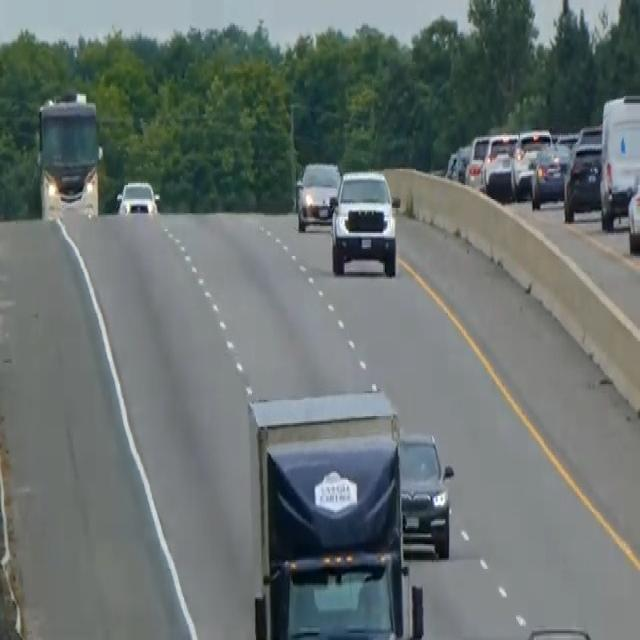bus: (34, 87, 103, 222)
car: (397, 428, 454, 558), (562, 127, 603, 220), (295, 158, 341, 231), (512, 126, 552, 198), (481, 132, 521, 199), (530, 142, 565, 210), (115, 178, 159, 217), (463, 132, 490, 188), (626, 162, 639, 254)
jeep: (327, 164, 400, 279)
lorry: (246, 384, 426, 636)
minibus: (598, 91, 639, 229)
